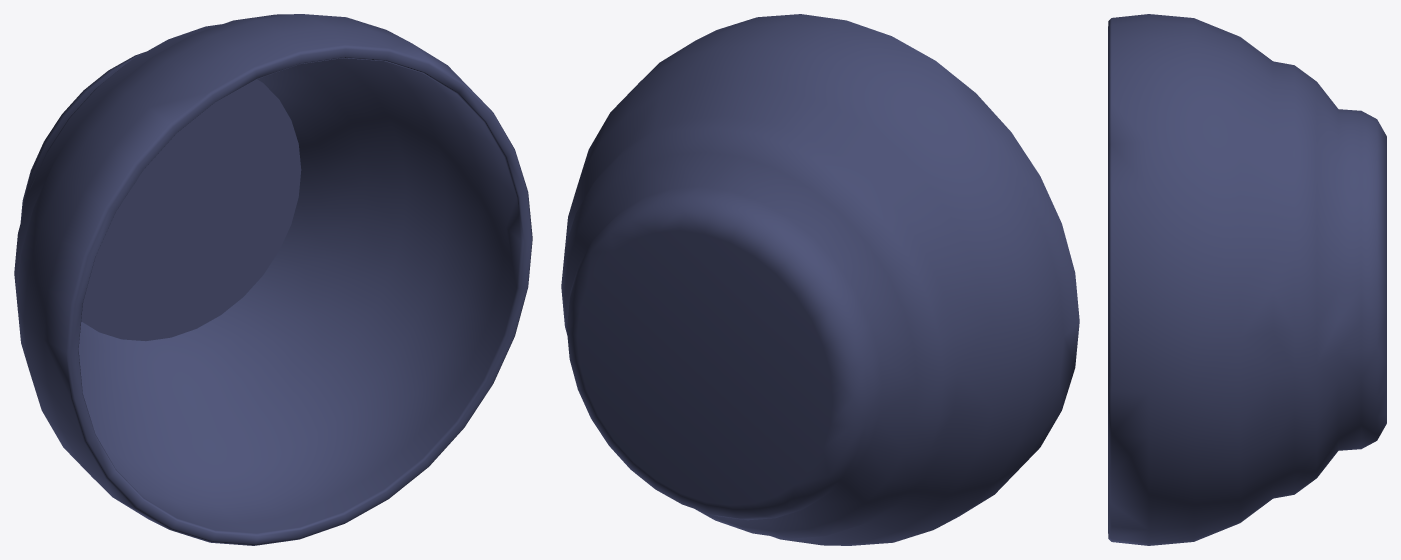
File: MeshBowl_15_0_GeomSubset_0.obj
The picture shows the model from 3 angles, left to right: view 1: azimuth 30°, elevation 25°; view 2: azimuth 150°, elevation 25°; view 3: azimuth 270°, elevation 25°; orthographic projection. The views are drawn at different scales.
Visible parts, largest first — view 1: MeshBowl_15_0_GeomSubset_0; view 2: MeshBowl_15_0_GeomSubset_0; view 3: MeshBowl_15_0_GeomSubset_0.
Part boxes in pixels (x1,y1,x2,y2): MeshBowl_15_0_GeomSubset_0: (14,14,532,545); MeshBowl_15_0_GeomSubset_0: (561,14,1079,545); MeshBowl_15_0_GeomSubset_0: (1108,14,1386,545).
Bounding box in the file's own units: 0.1444 × 0.1444 × 0.0757.
